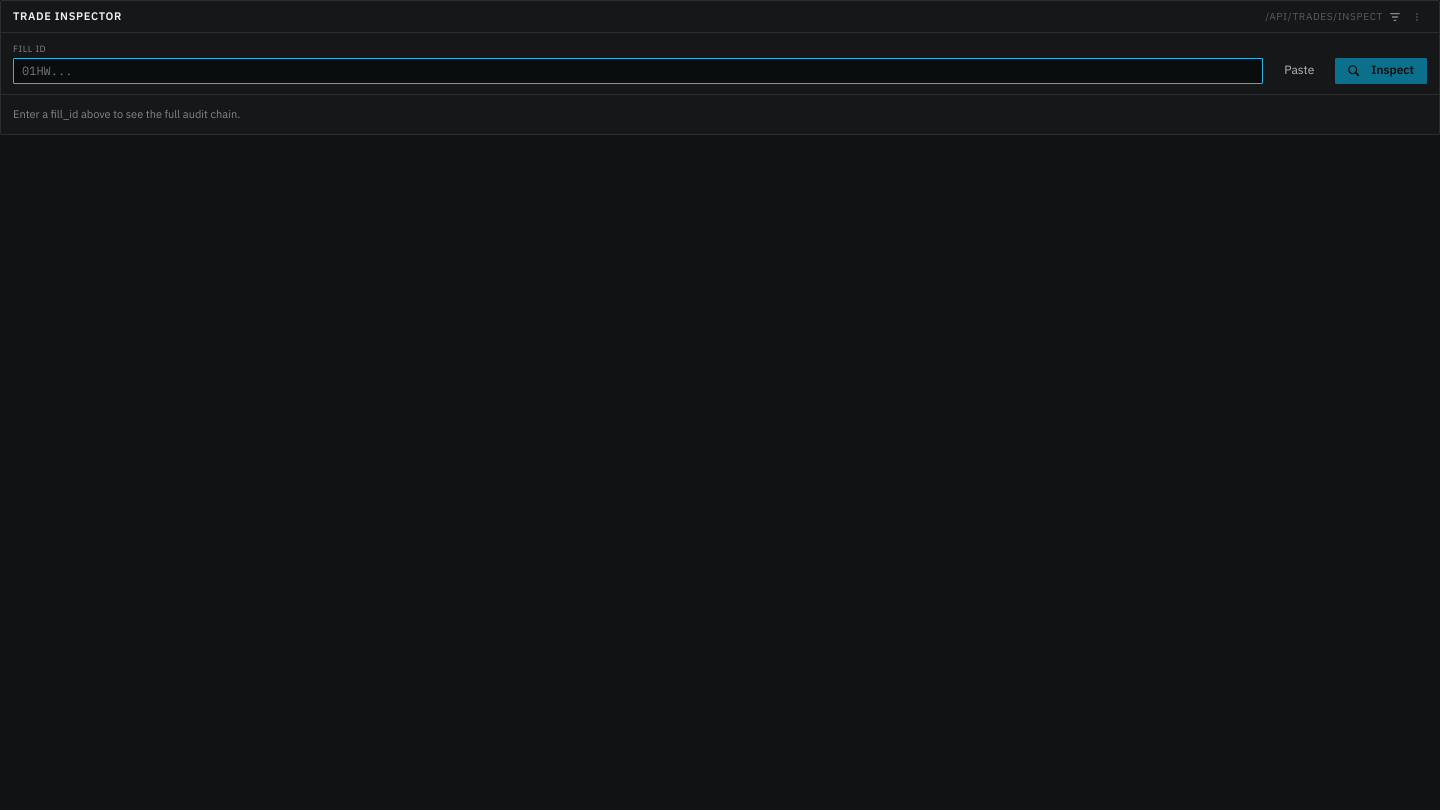
InspectorPanel (QF-229) › renders the 3 sections on successful inspect
Type "01HW-FILL-1" into the field with placeholder "01HW..." at (638, 71), box [13,58,1263,84]
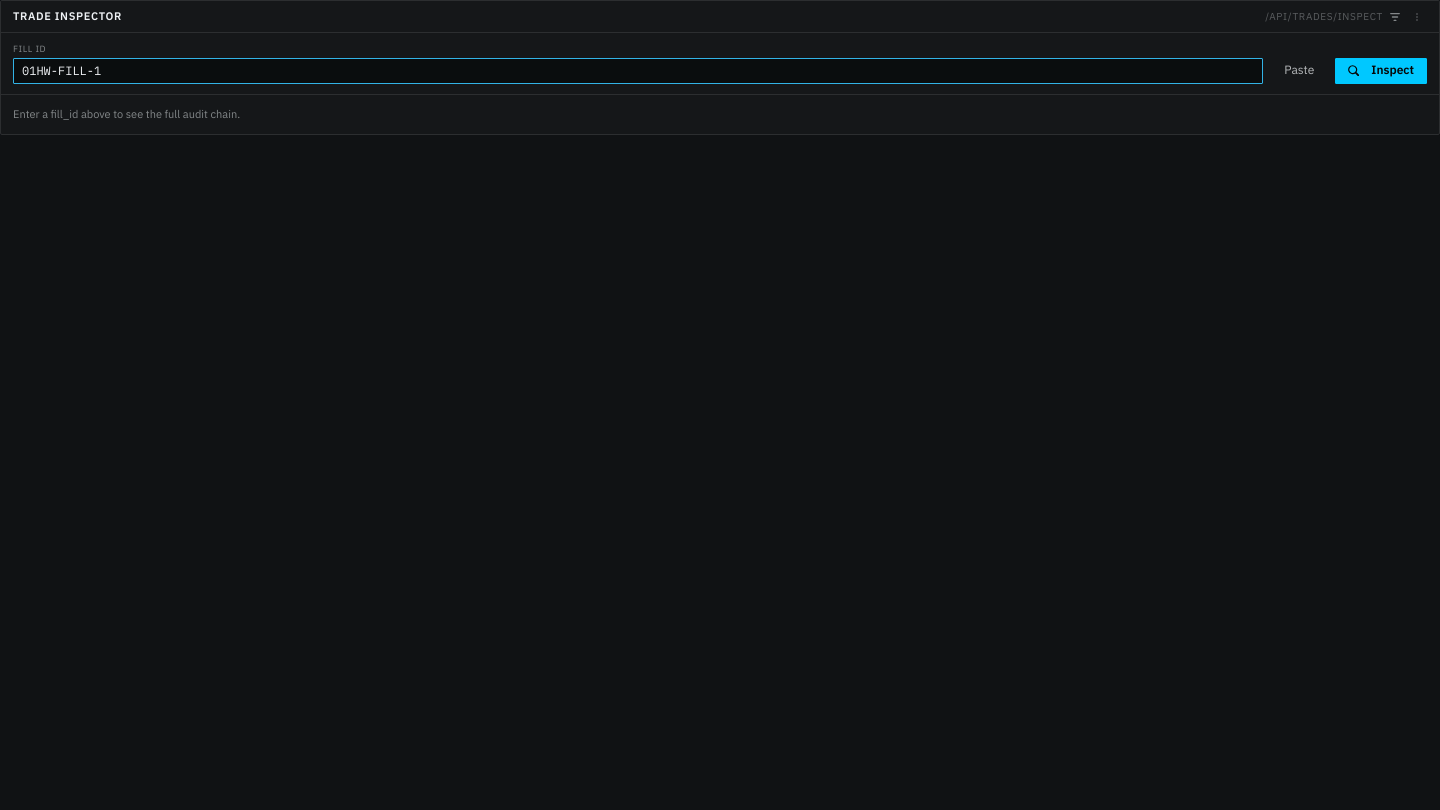
Click the button "Inspect" at (1381, 71), box [1335,58,1427,84]
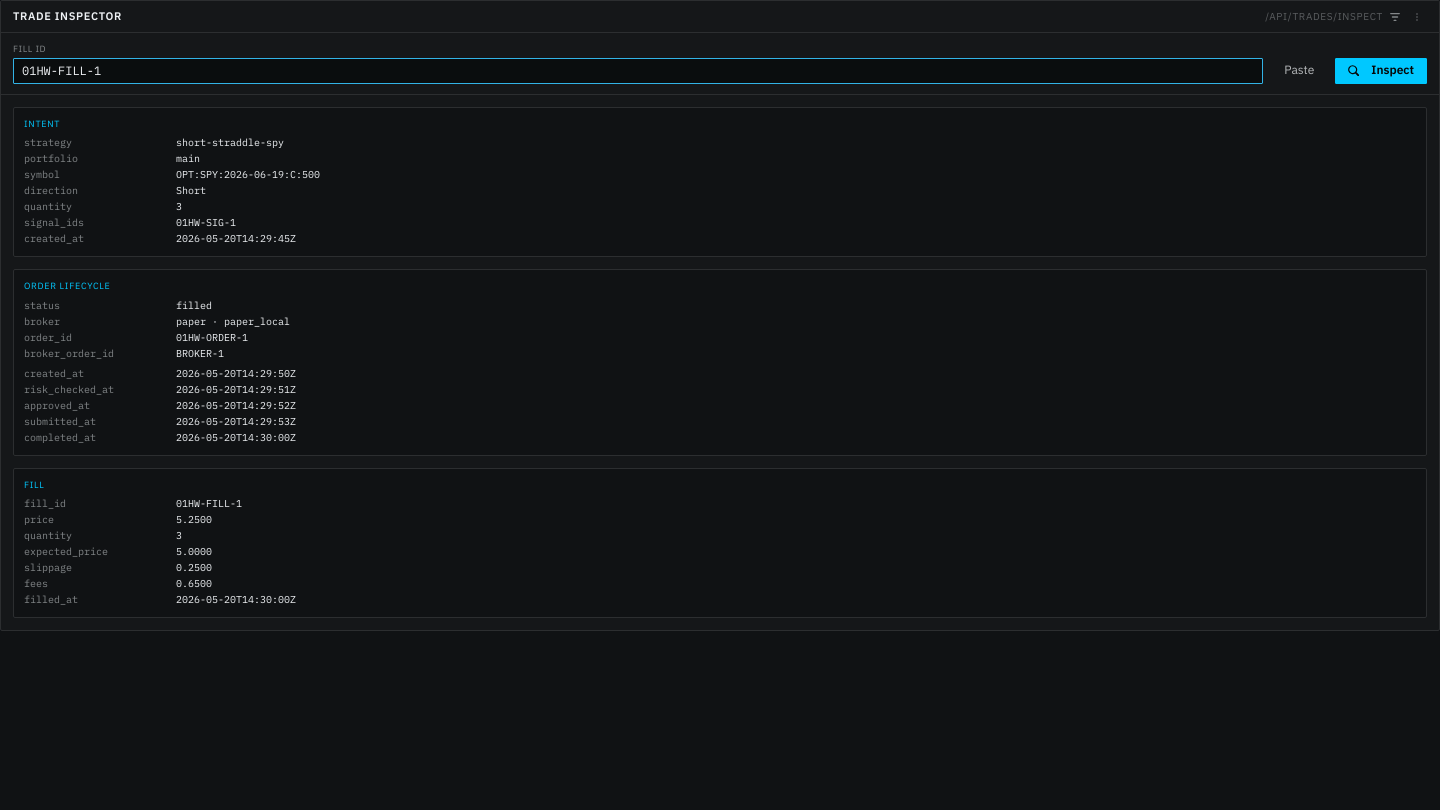
Expected: the text "Intent" is shown, [24,118,60,129]
Expected: the text "Order lifecycle" is shown, [24,280,110,291]
Expected: the text "Fill" is shown, [24,479,44,490]
